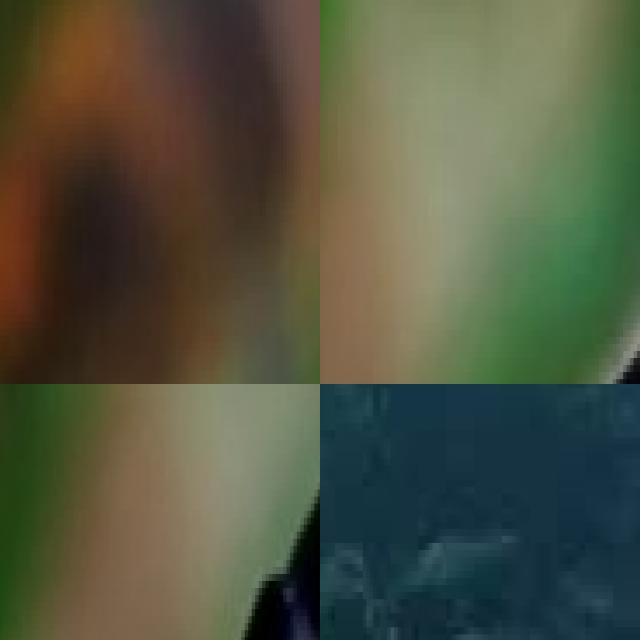fish: (0, 0, 320, 384), (442, 0, 640, 384), (147, 384, 320, 640)
